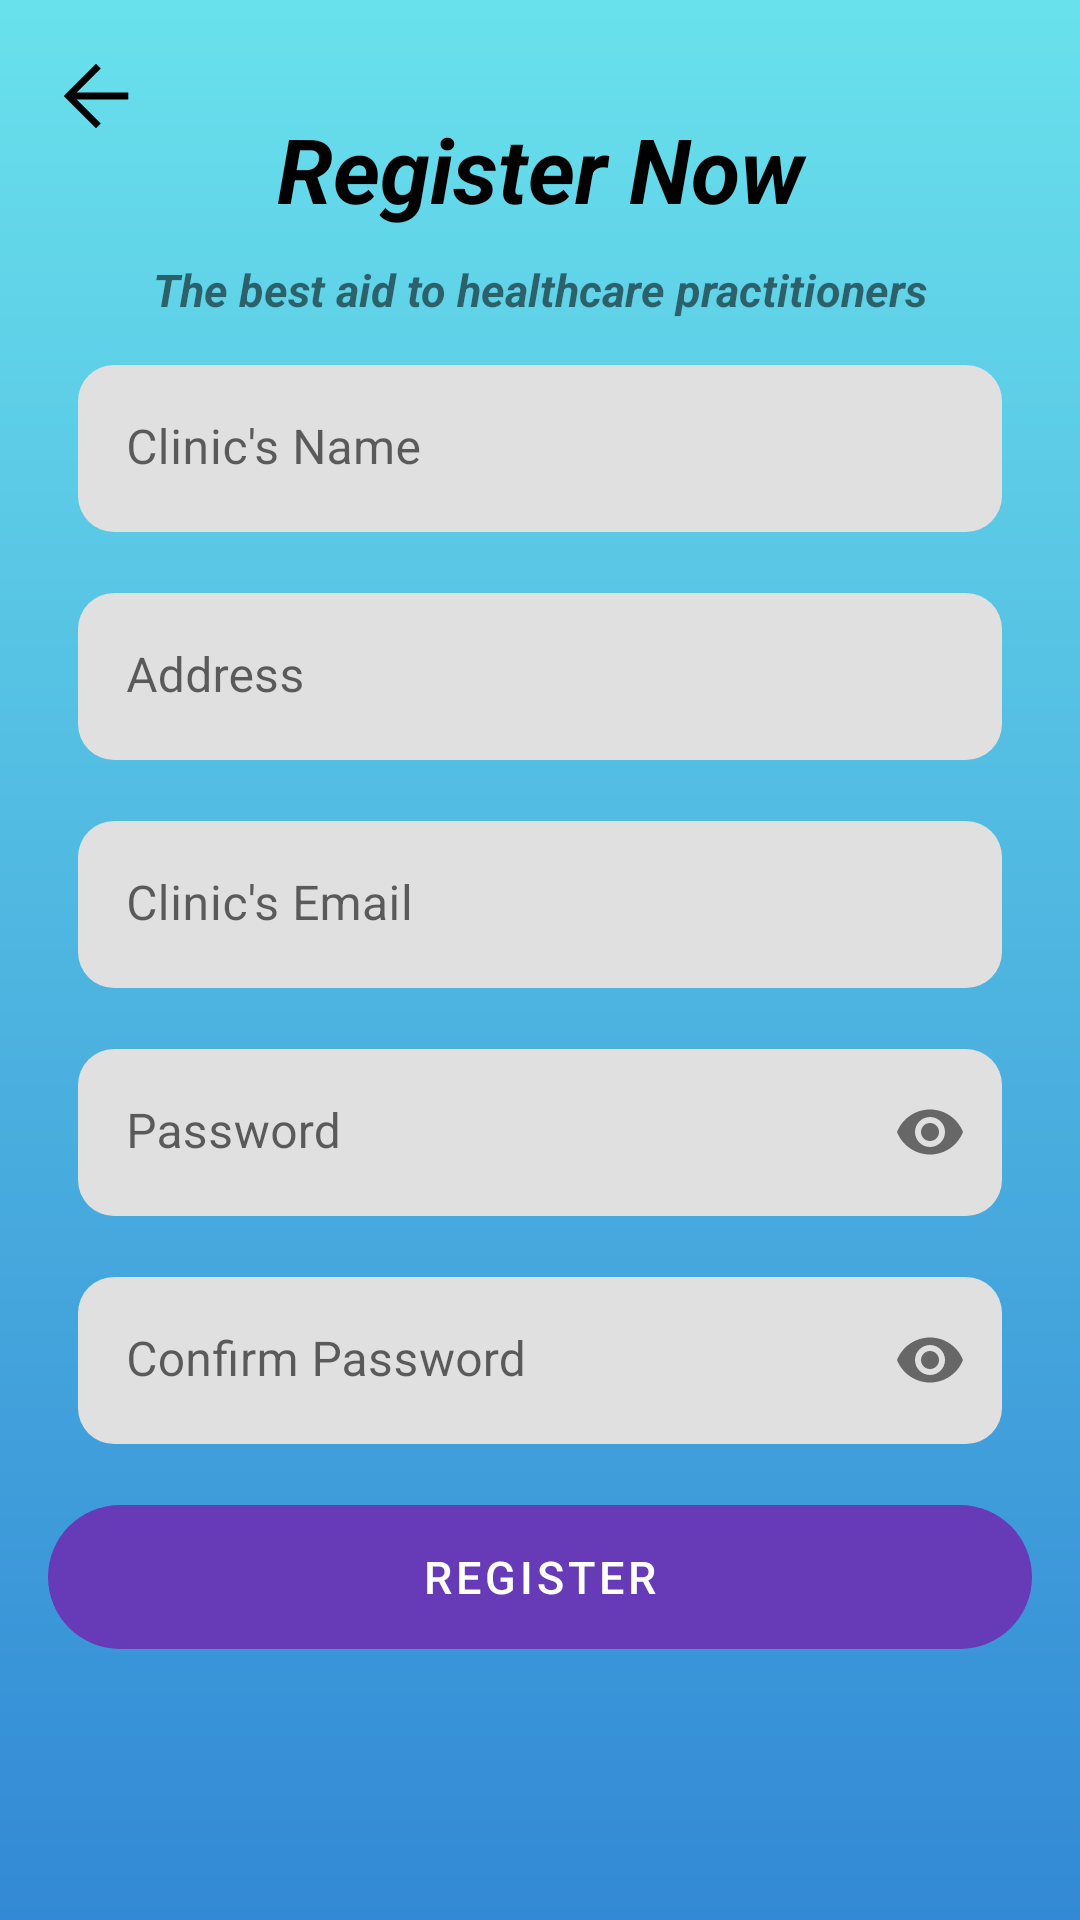

Screen size 1080 × 1920. Icon name, then its box in pixels as {"x1": x1, "y1": y1, "x2": x2, "y2": y2}:
backarrow: {"x1": 64, "y1": 64, "x2": 129, "y2": 128}
